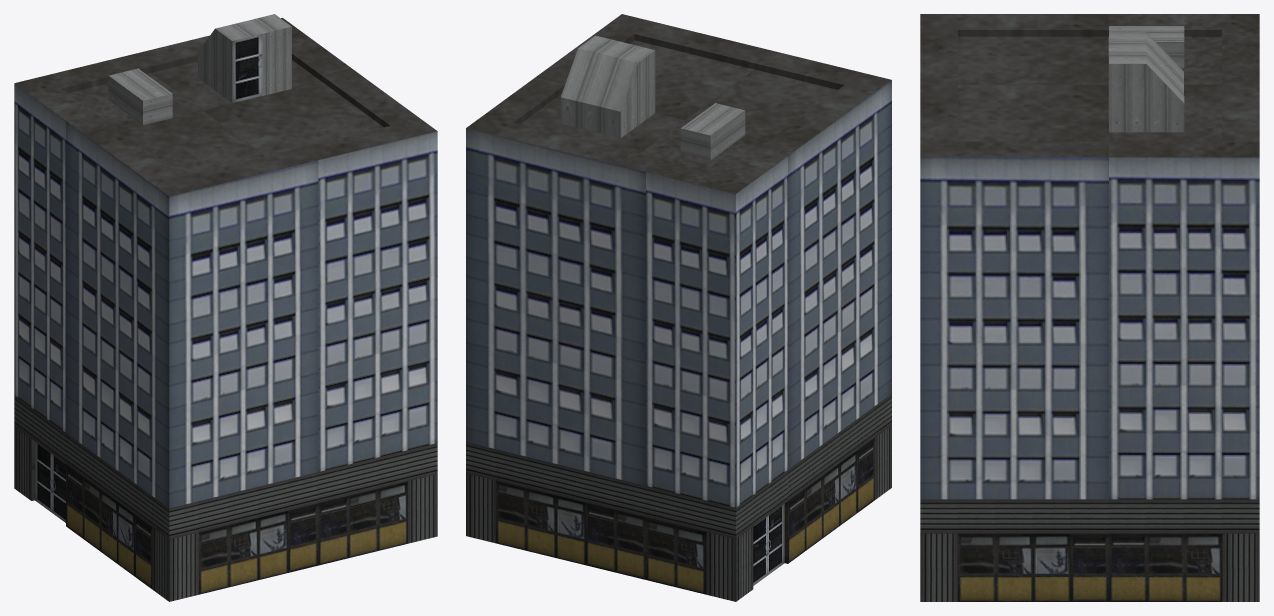
The model's file is building4.fbx.
3 renders of one model, left to right at view 1: azimuth 30°, elevation 25°; view 2: azimuth 150°, elevation 25°; view 3: azimuth 270°, elevation 25°, orthographic. The views are drawn at different scales.
Parts seen in each view (by area): view 1: building4; view 2: building4; view 3: building4.
Boxes of the visible parts, x1=… form: building4: x1=14, y1=14, x2=437, y2=601; building4: x1=466, y1=14, x2=891, y2=601; building4: x1=920, y1=14, x2=1259, y2=601.
Bounding box in the file's own units: 1000 × 1000 × 1644.
Materials: 1 (1 with a texture image).
